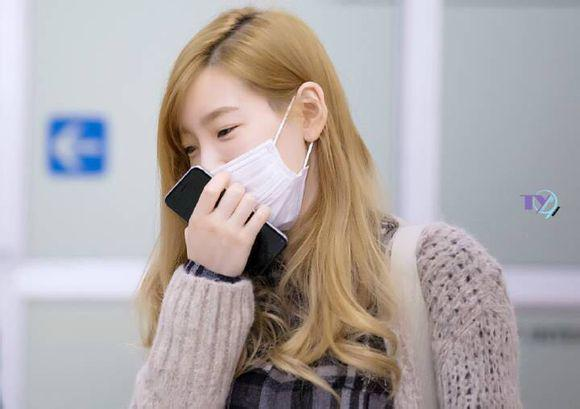WRONG: (177, 104, 305, 223)
